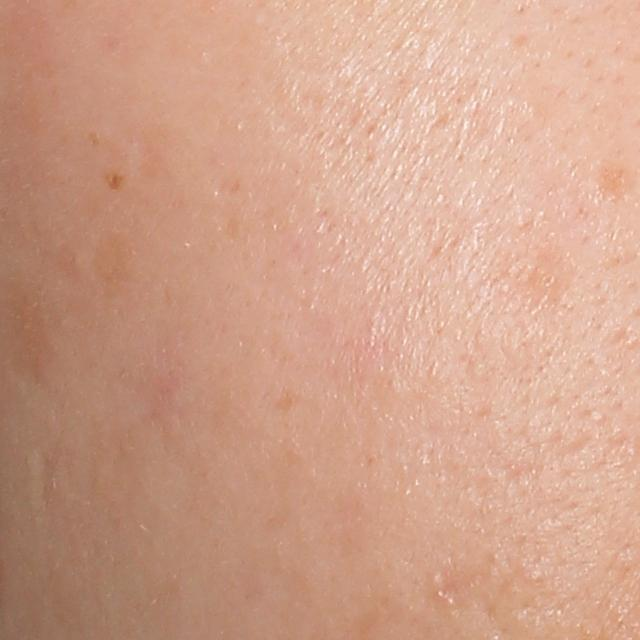atrophic_scar: (32, 446, 56, 516)
melasma: (594, 164, 639, 199)
nevus: (104, 168, 122, 191)
